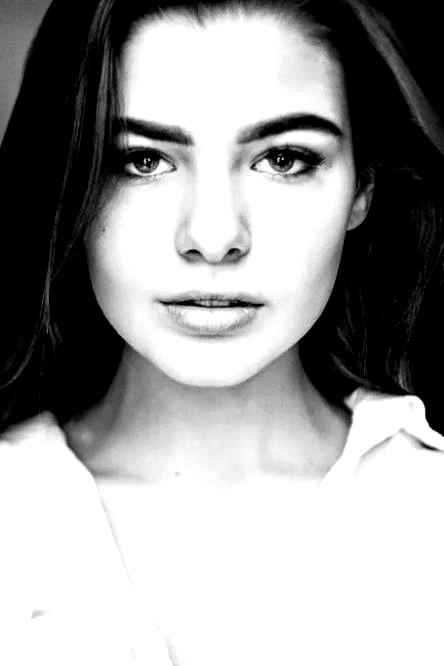face: (87, 20, 351, 388)
